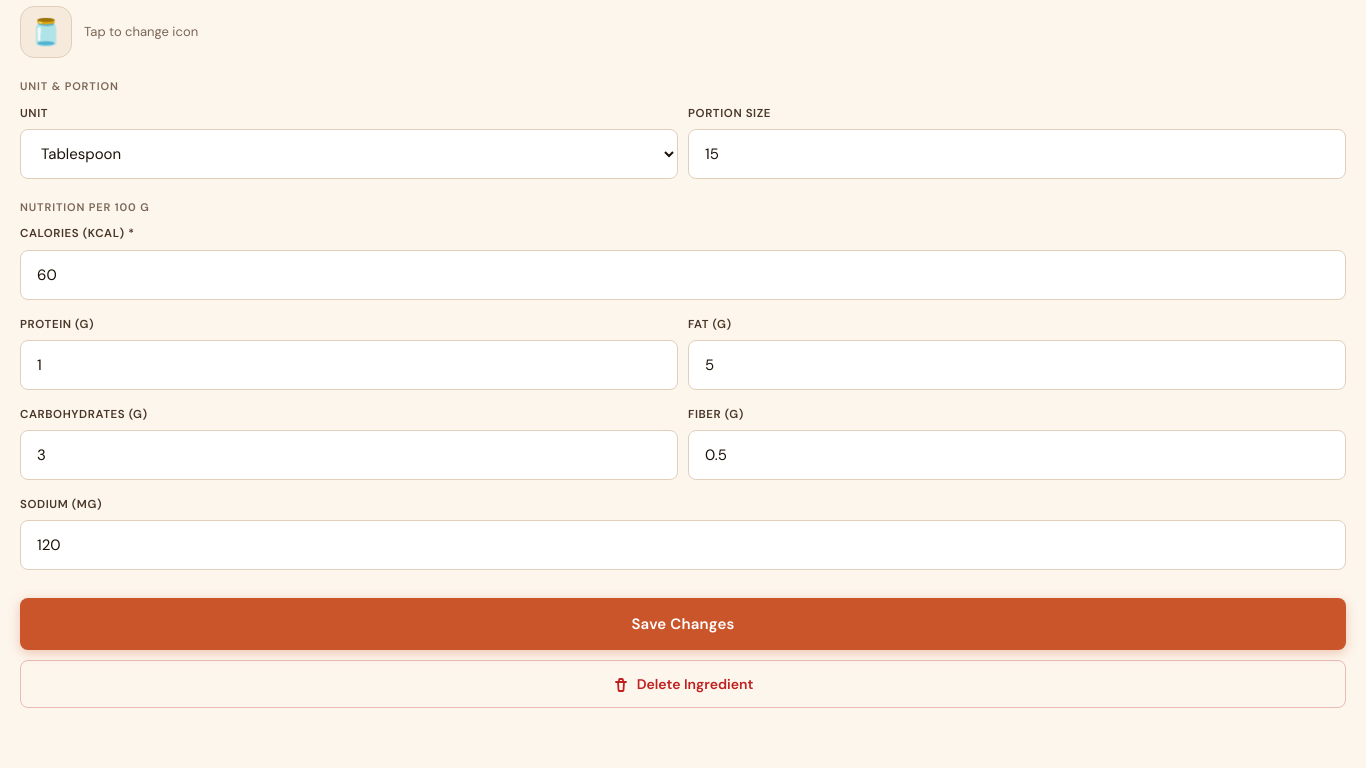
CustomIngredientFormPage — delete flow › dismisses dialog on Cancel
(page scrolled)
Click the button labelled "Delete Ingredient": coordinates (683, 684) top-left (20, 660), bottom-right (1346, 708)
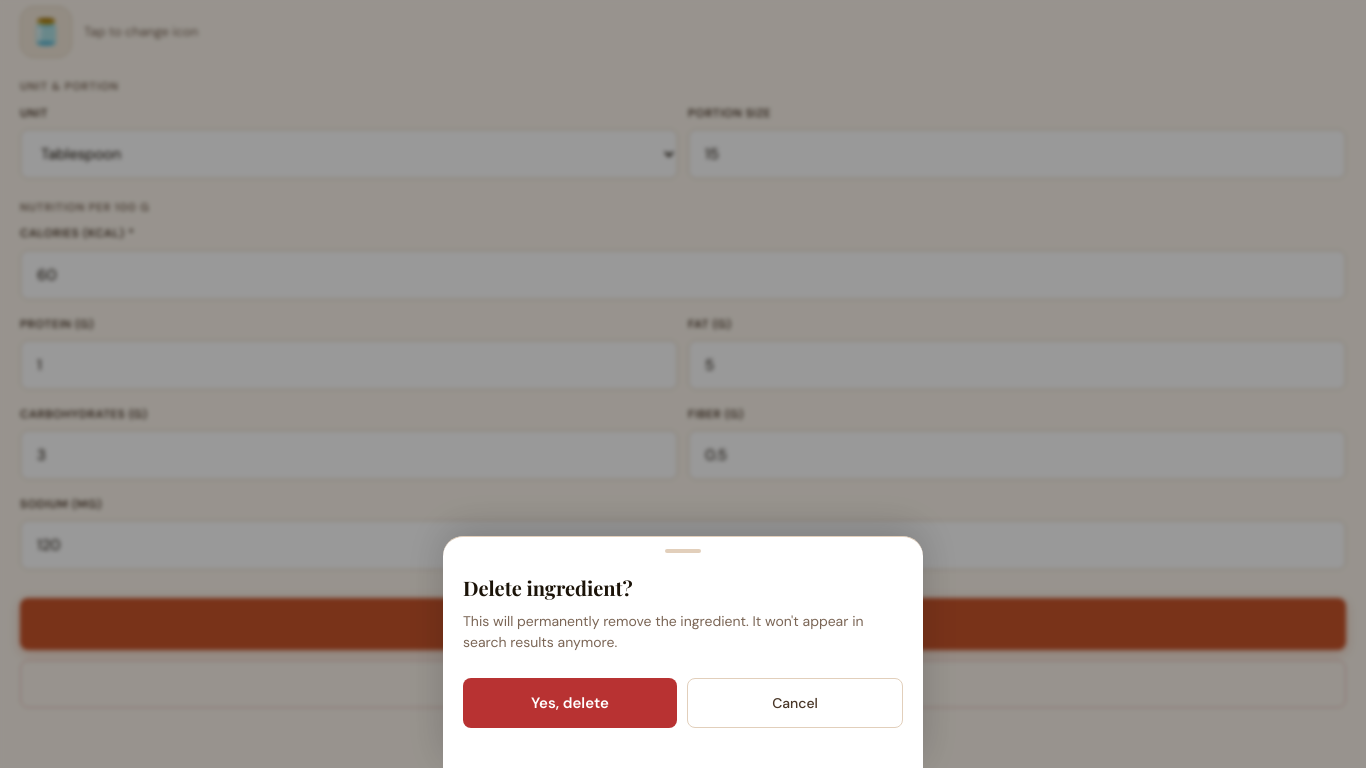
Check: the dialog is shown, box top-left (443, 536), bottom-right (923, 767)
Click the button "Cancel": coordinates (795, 703) top-left (687, 678), bottom-right (903, 728)
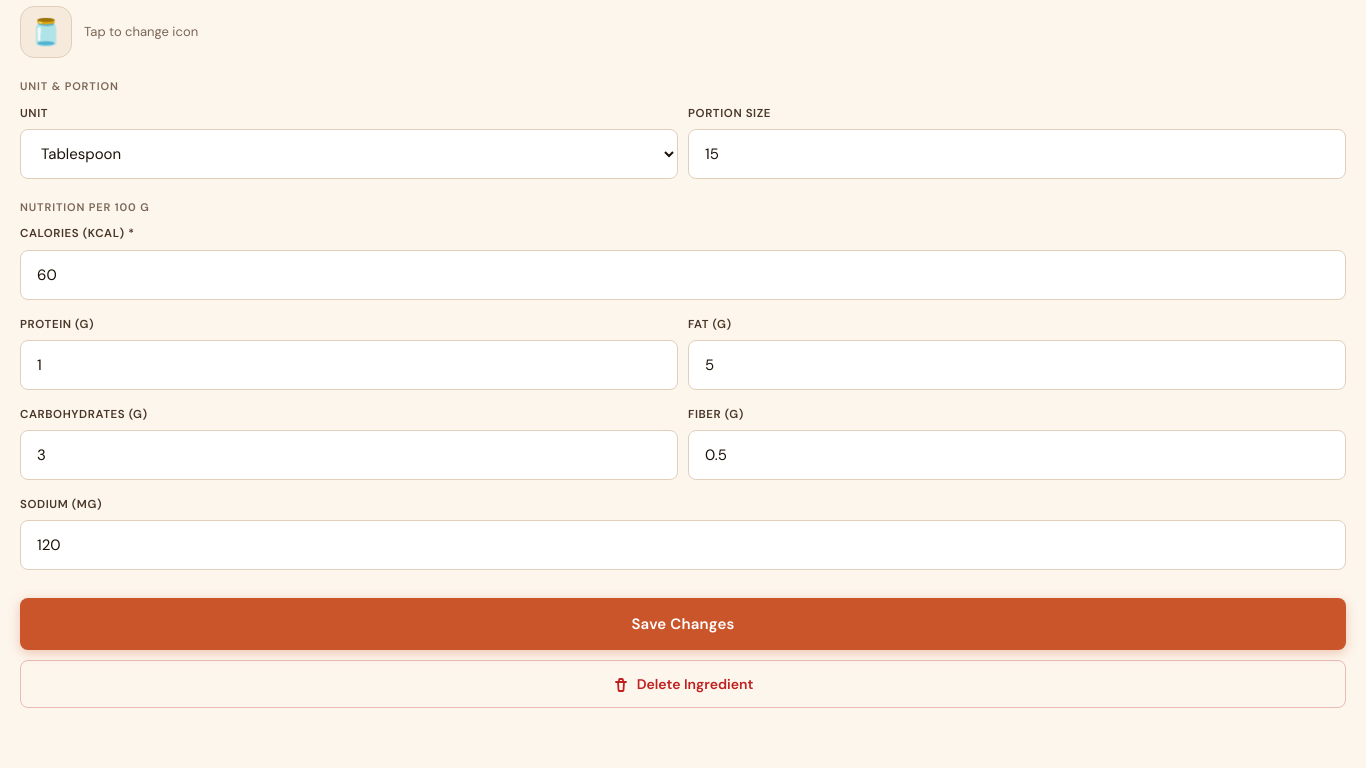
Check: the dialog is gone
